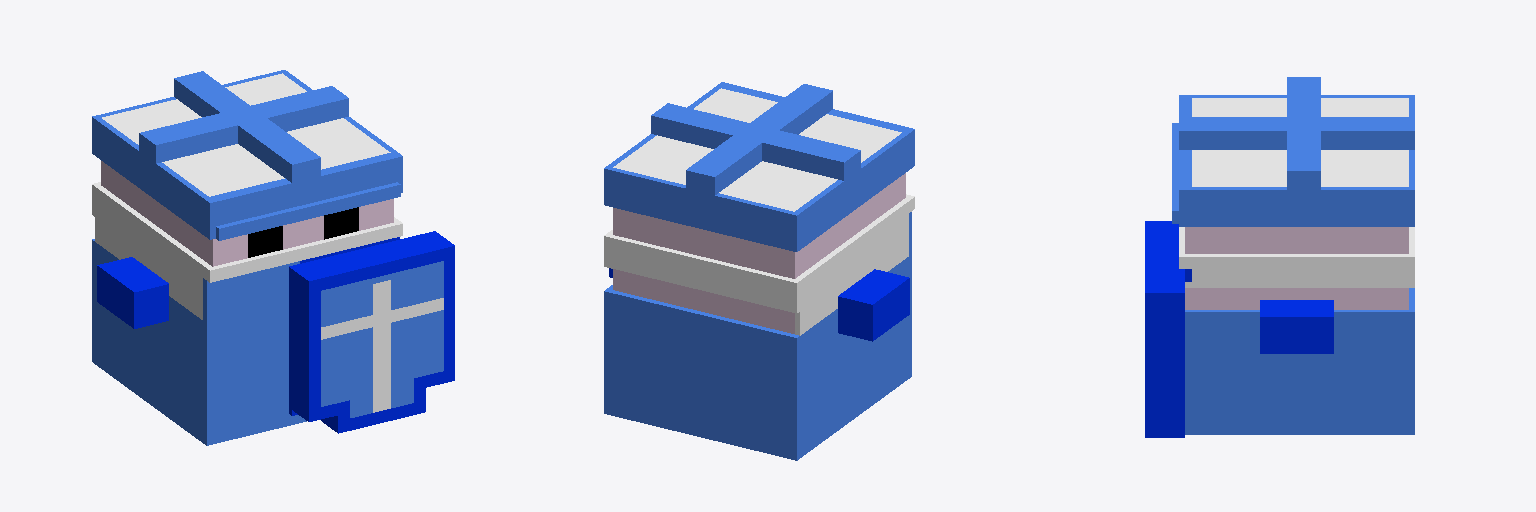
3 views of the same model, side by side, from view 1: azimuth 30°, elevation 25°; view 2: azimuth 150°, elevation 25°; view 3: azimuth 270°, elevation 25° (orthographic).
Size of the model in its own units: 45 by 43 by 40.
1 materials, 1 textured.